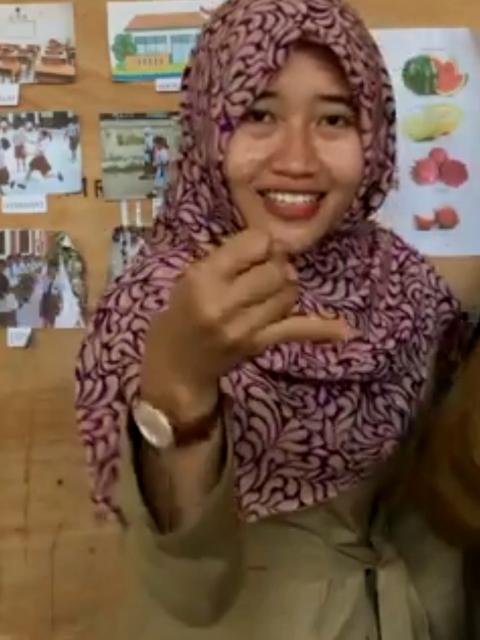J: (150, 232, 352, 380)
